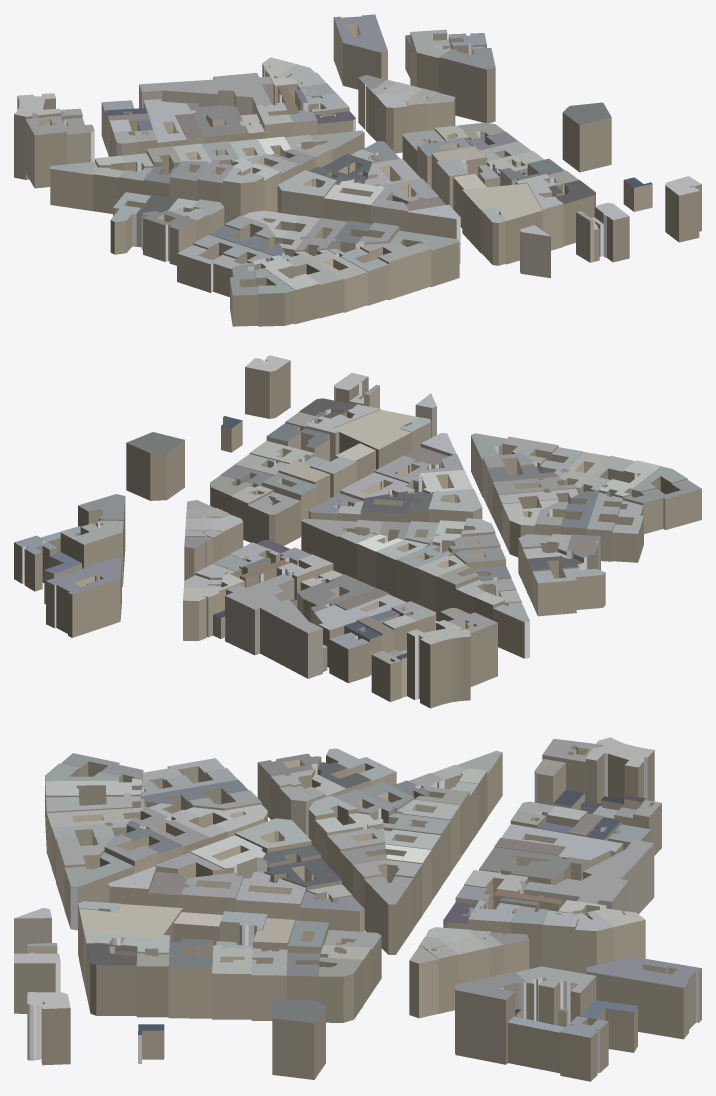
3 renders of one model, top to bottom at view 1: azimuth 30°, elevation 25°; view 2: azimuth 150°, elevation 25°; view 3: azimuth 270°, elevation 25°, orthographic. The views are drawn at different scales.
Visible parts, largest first — view 1: tuile; view 2: tuile; view 3: tuile.
Part boxes in pixels (box(x1,y1,x2,y2)): tuile: box(14, 14, 701, 326); tuile: box(14, 355, 701, 708); tuile: box(14, 737, 701, 1081).
Size of the model in its own units: 271 by 34.28 by 279.
